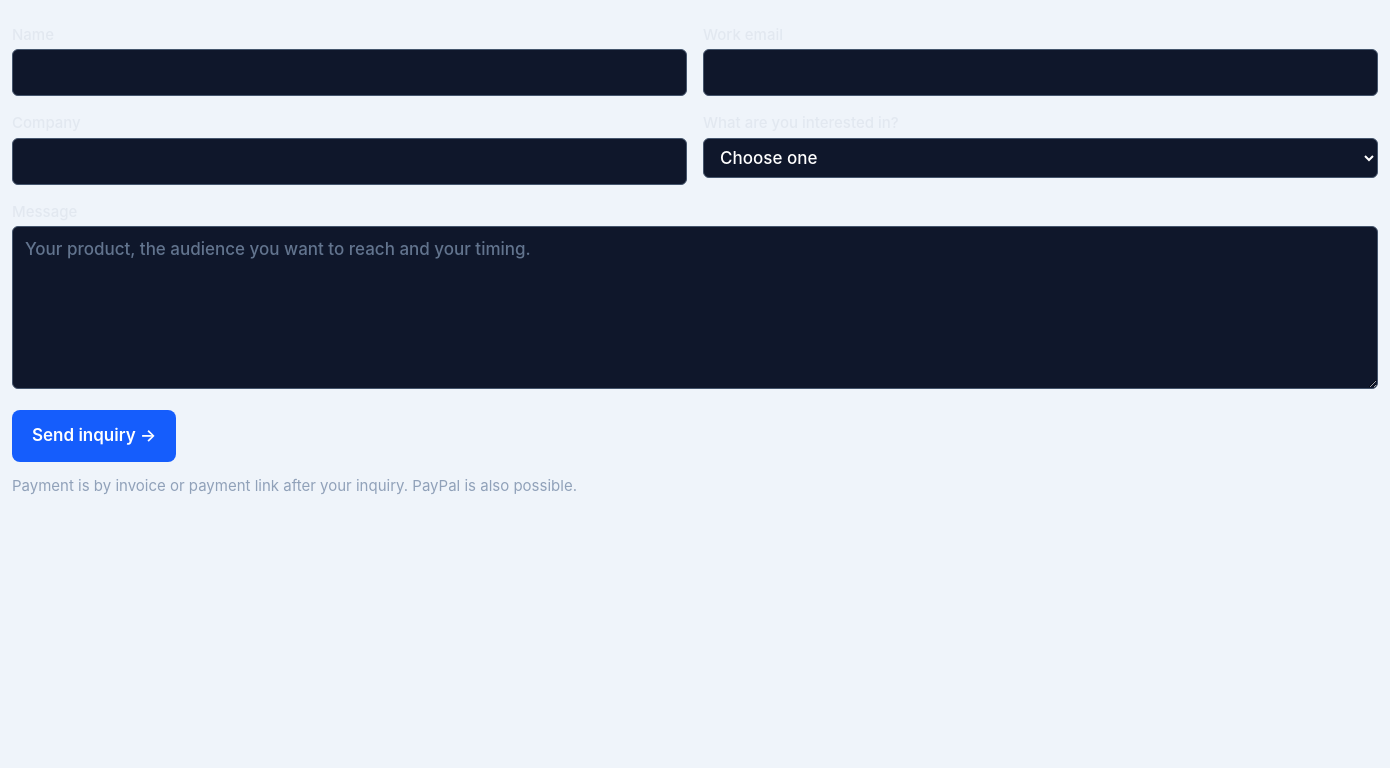
Test: sponsor inquiry recovery › preserves every field and the retry draft for HTTP 503 and {"success":false,"stored":false,"error":"Please retry shortly."}
Type "Reliability test" into the field labelled "Name" at (350, 73), box x1=12 y1=49 x2=687 y2=96
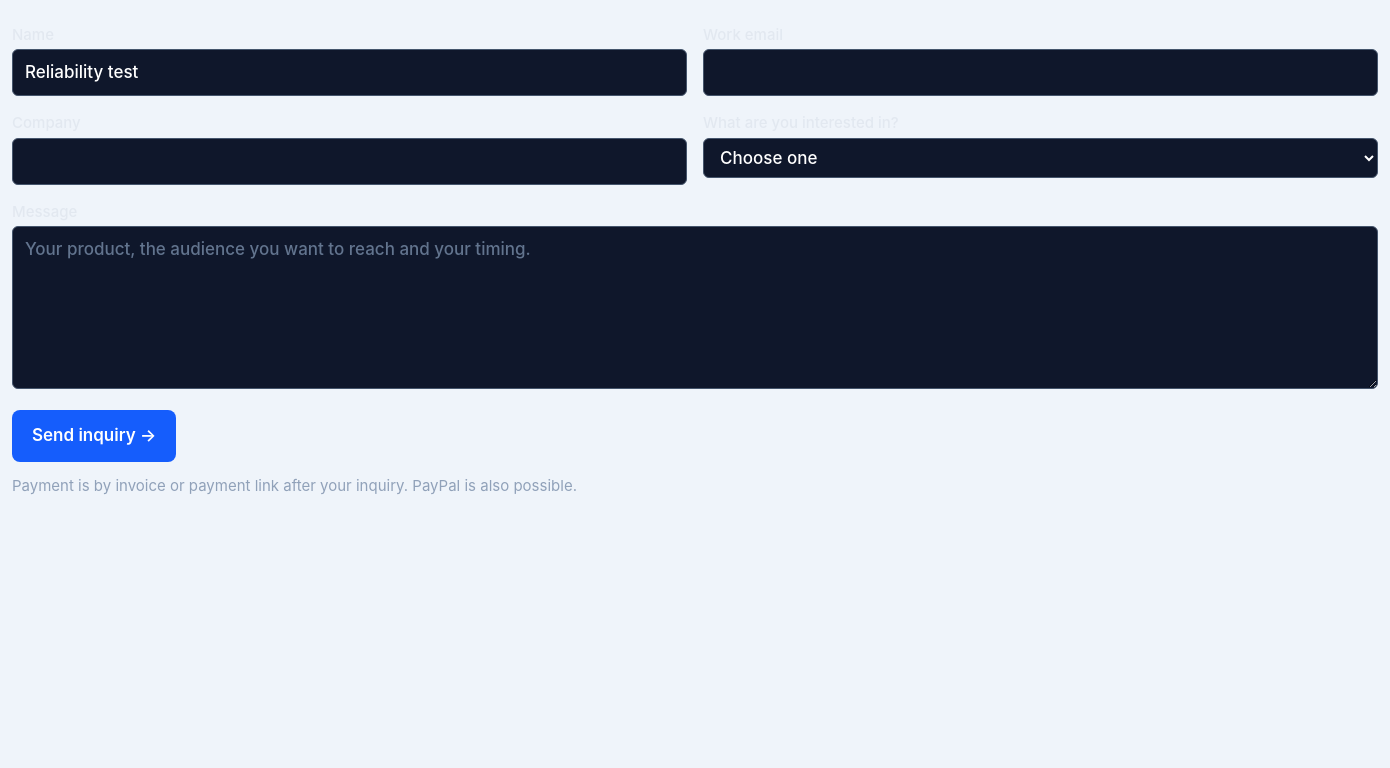
Type "test@example.com" into the field labelled "Work email" at (1040, 73), box x1=703 y1=49 x2=1378 y2=96
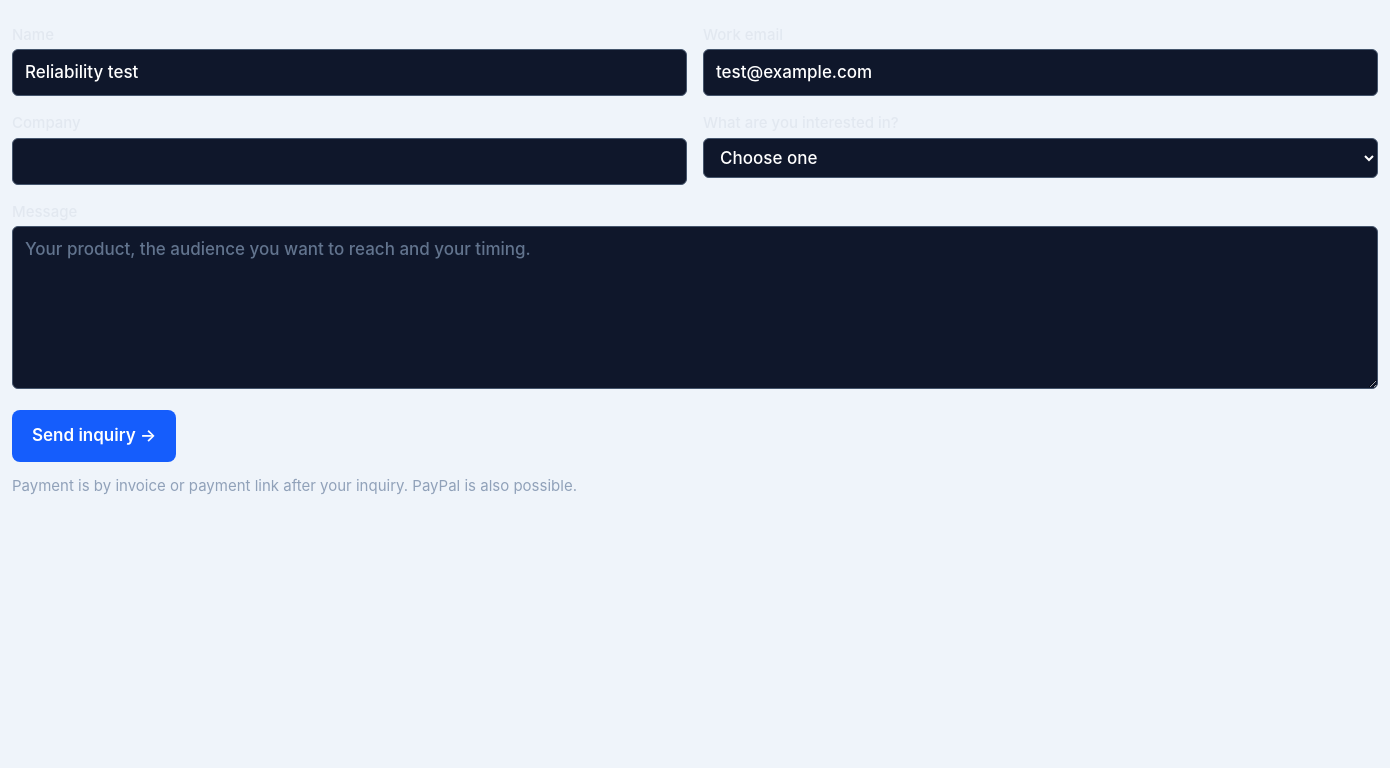
Type "Synthetic test" into the field labelled "Company" at (350, 161), box x1=12 y1=138 x2=687 y2=185
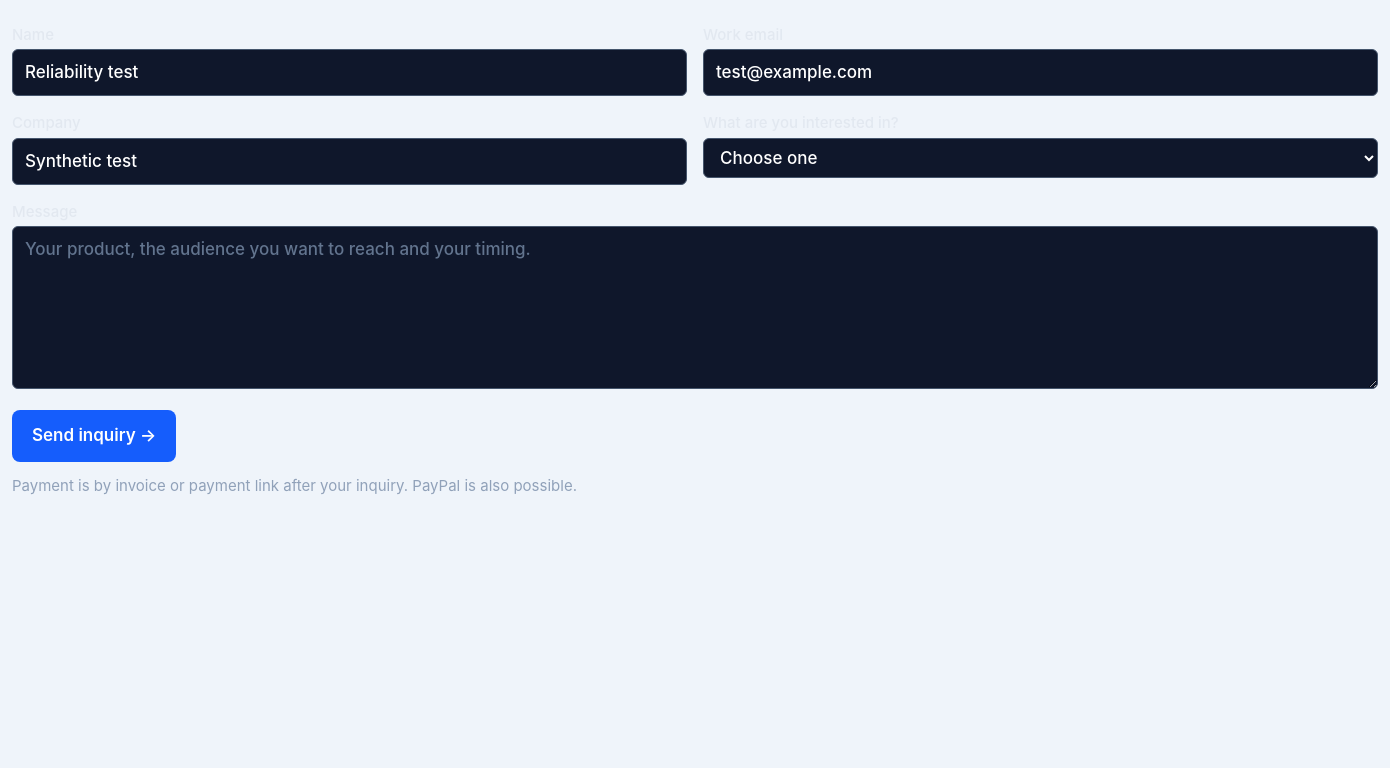
Select "Single Brief slot — $39" in the dropdown labelled "What are you interested in?" at (1040, 158), box x1=703 y1=138 x2=1378 y2=178
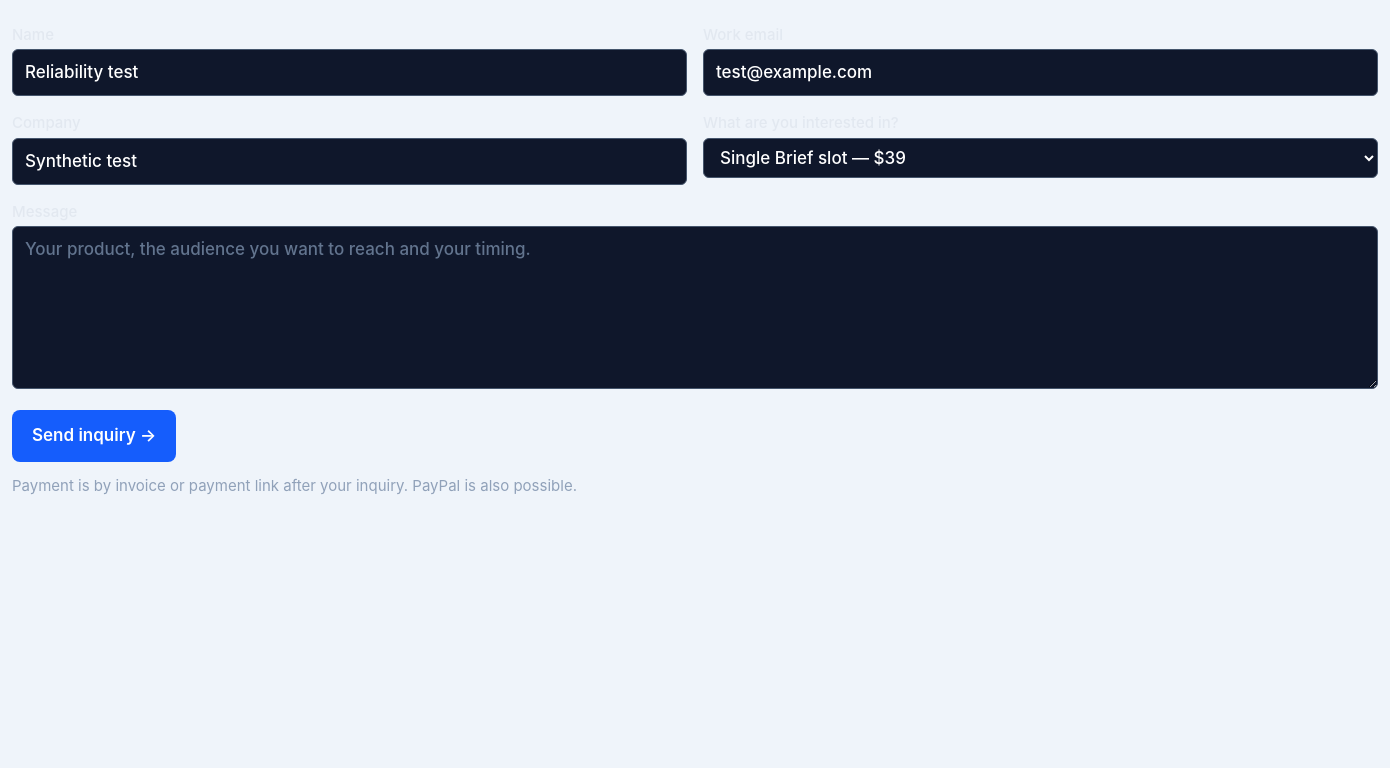
Replace the text in the text box labelled "Message" with "Synthetic inquiry, not a sponsorship booking." at (695, 307), box x1=12 y1=226 x2=1378 y2=388
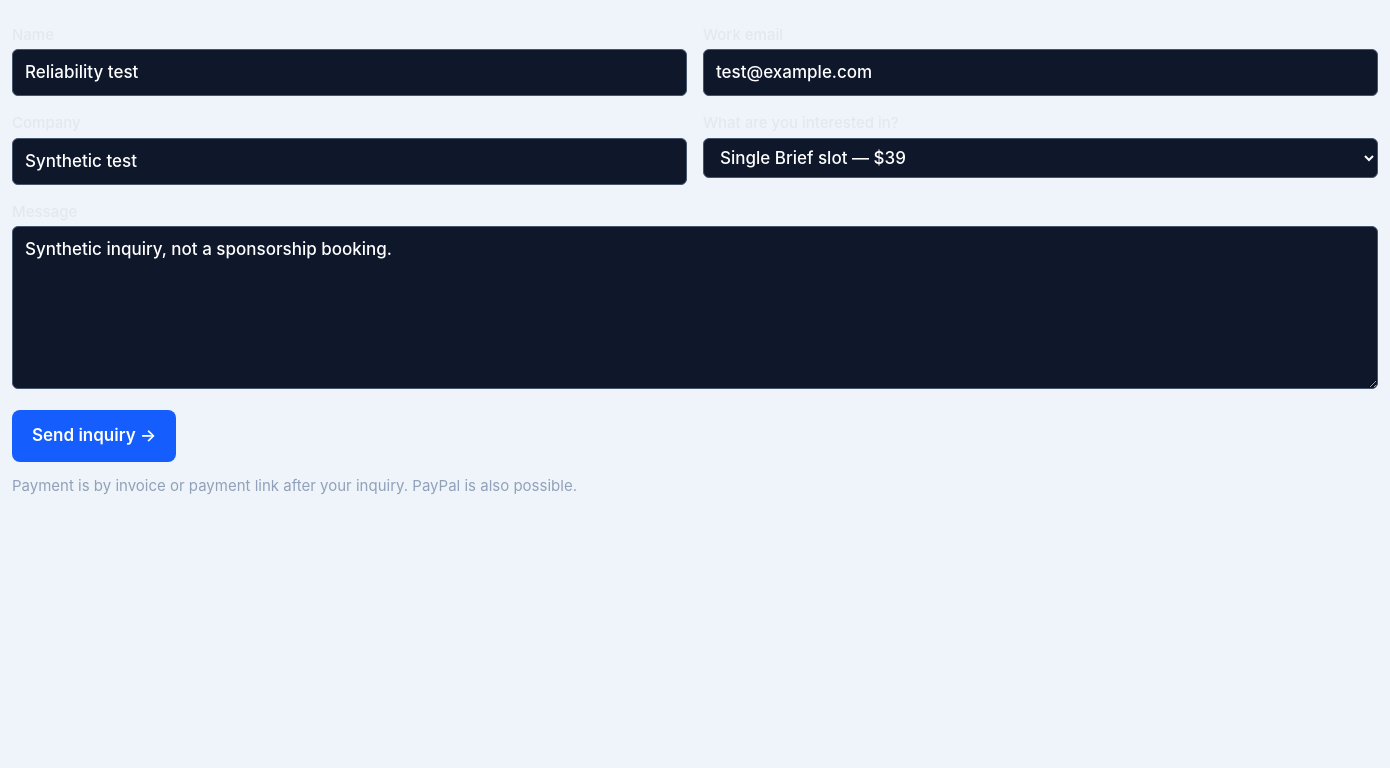
Submit the form
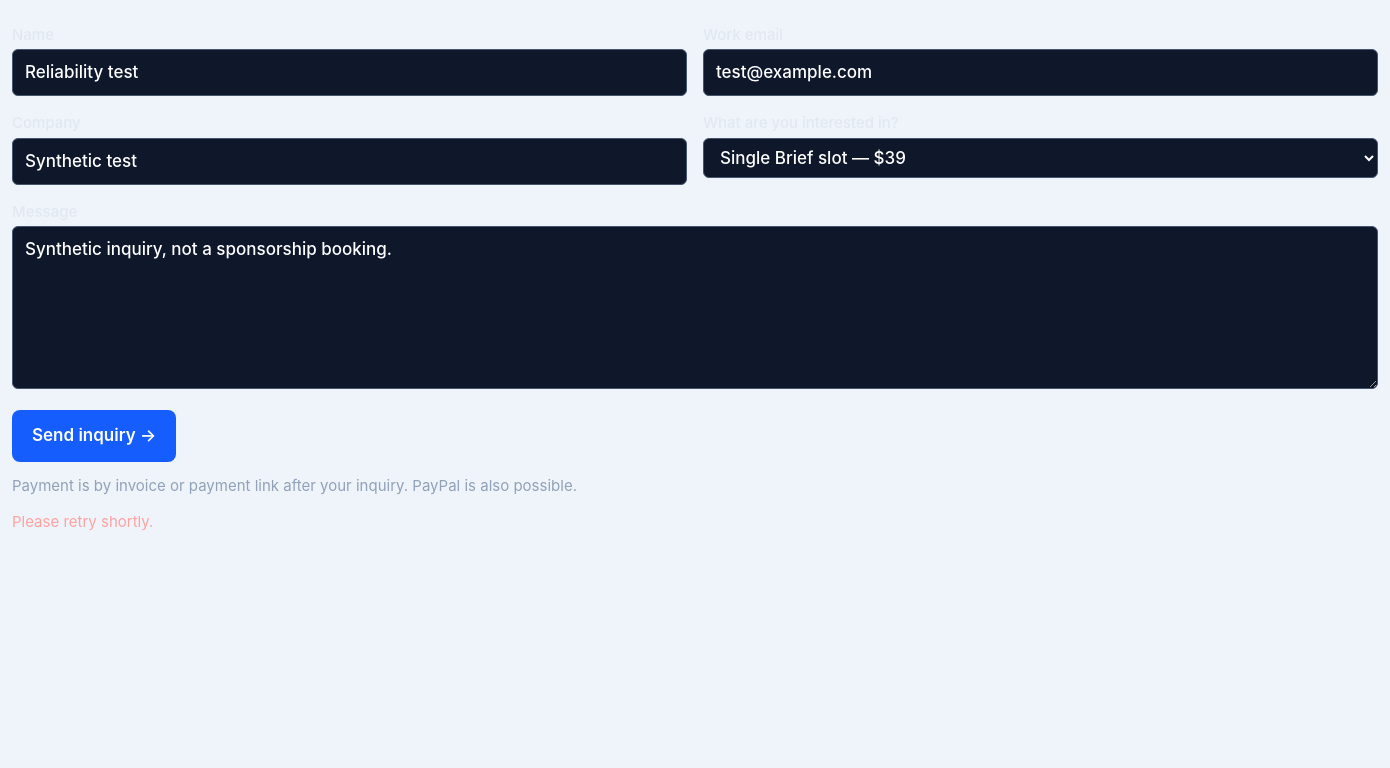
expect the message "Please retry shortly." is shown: met, box x1=12 y1=512 x2=153 y2=531
